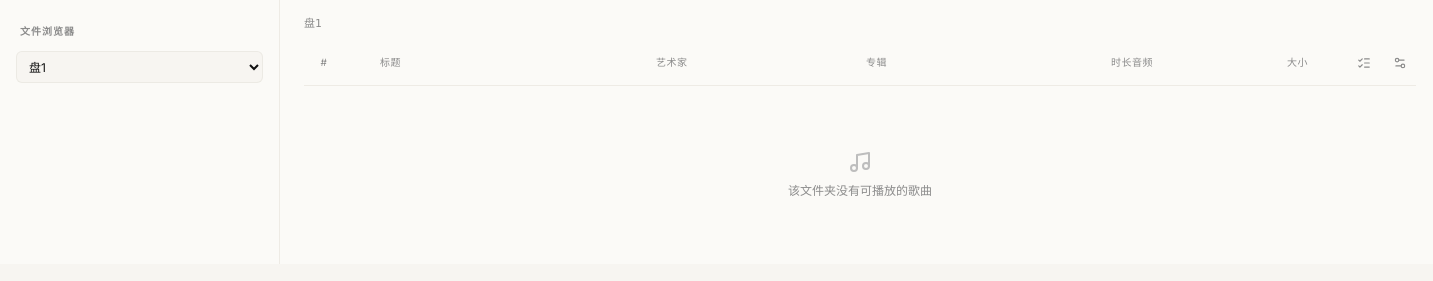
Test case: 迷你返回：目录、智能歌单和艺术家详情上下文 › 切来源后的旧目录响应不覆盖新目录树
Select "盘2" in the dropdown: coordinates (140, 67) [16,51,263,83]
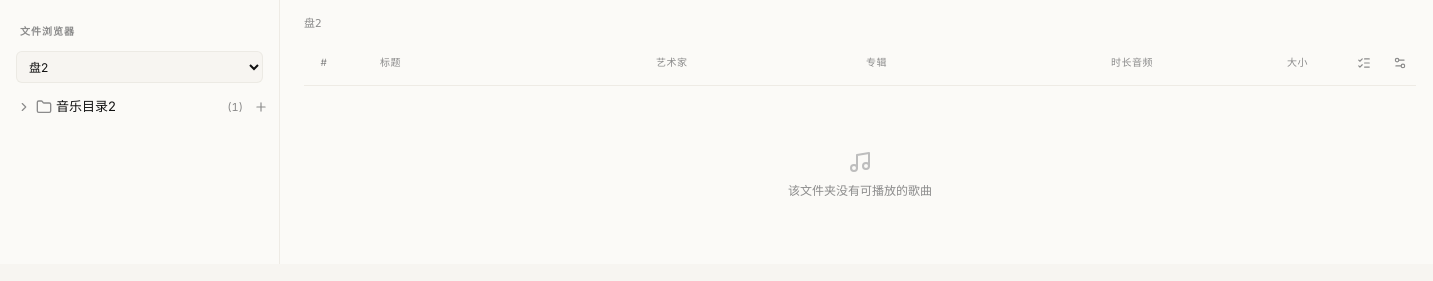
Expected: the text "音乐目录2" is shown, [56,98,116,114]
